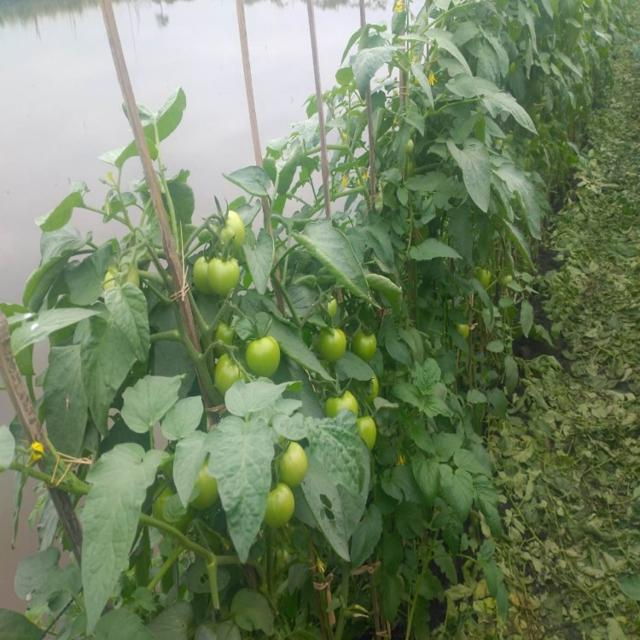tomato: (249, 330, 286, 375), (274, 442, 316, 481), (264, 484, 295, 533), (212, 252, 245, 295), (216, 202, 245, 247), (193, 253, 219, 296), (326, 384, 357, 414), (320, 330, 345, 367), (194, 471, 216, 509), (351, 327, 374, 361), (357, 414, 379, 449), (222, 357, 242, 391), (401, 134, 423, 160), (323, 296, 343, 324), (216, 322, 233, 354), (480, 268, 495, 292)
